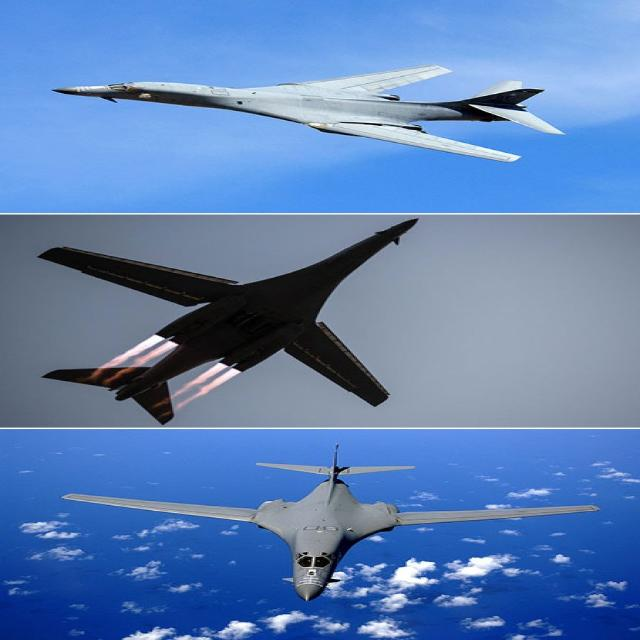B1: (36, 212, 477, 438), (21, 446, 619, 612), (50, 22, 590, 182)
